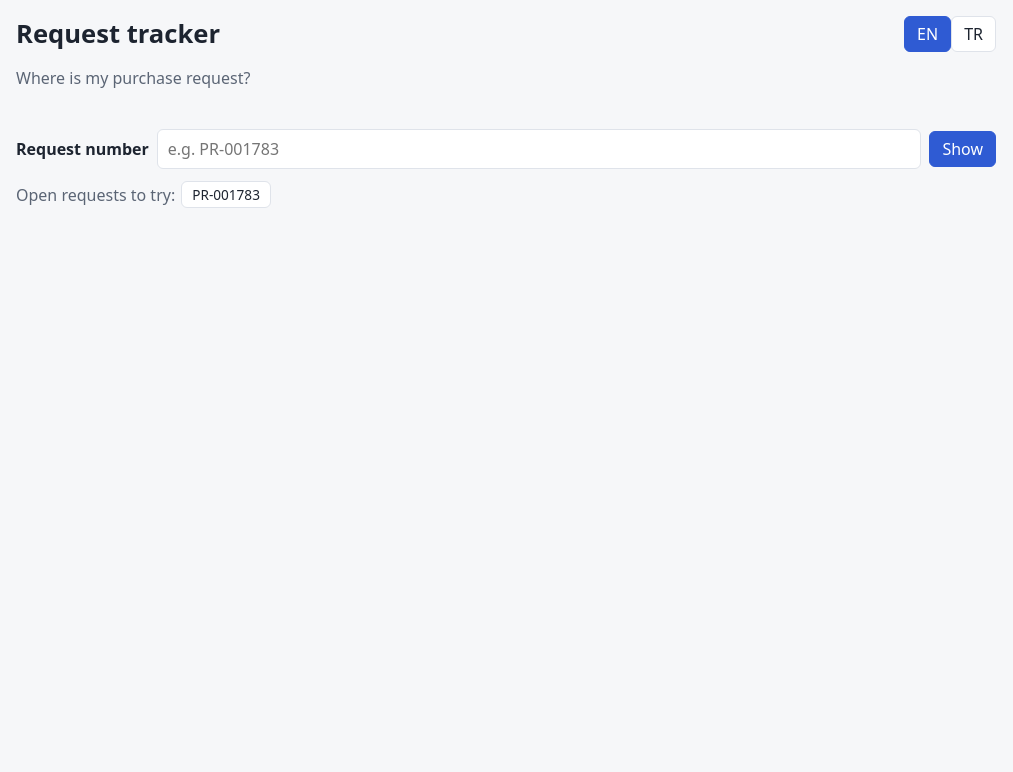
Scenario: RequestTracker › HidesComparison_WhenNull
In the field labelled "Request number": coordinates (539, 149) [157,129,921,169], type "PR-001783"
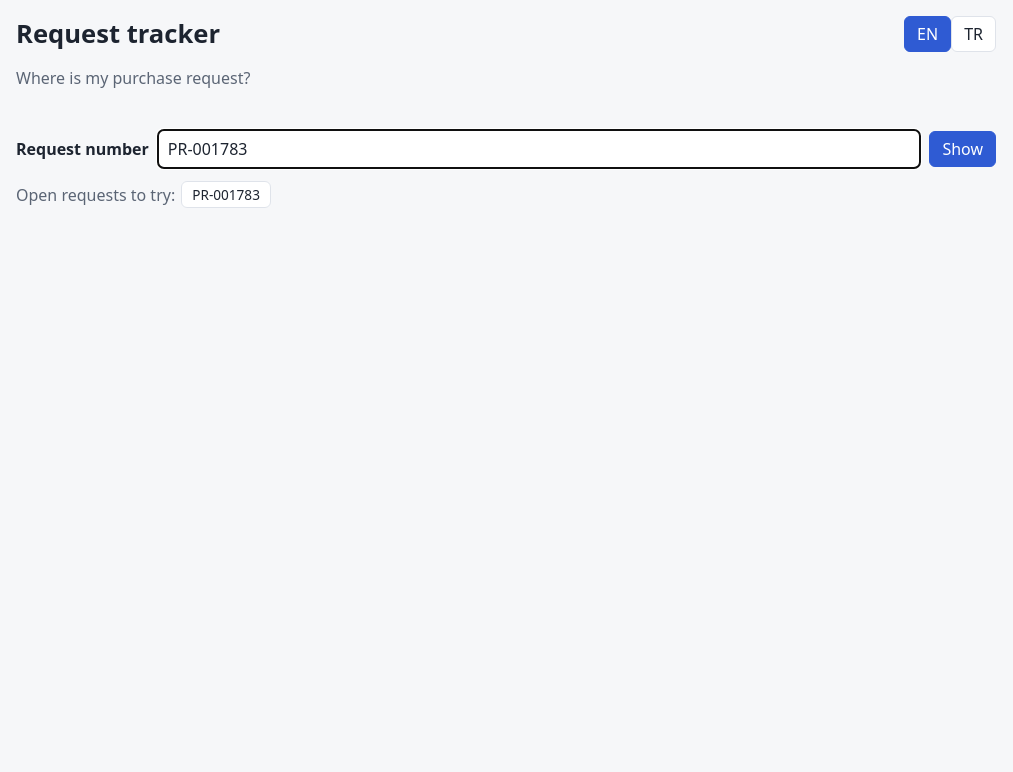
Click the button "Show": coordinates (963, 149) [929,131,996,167]
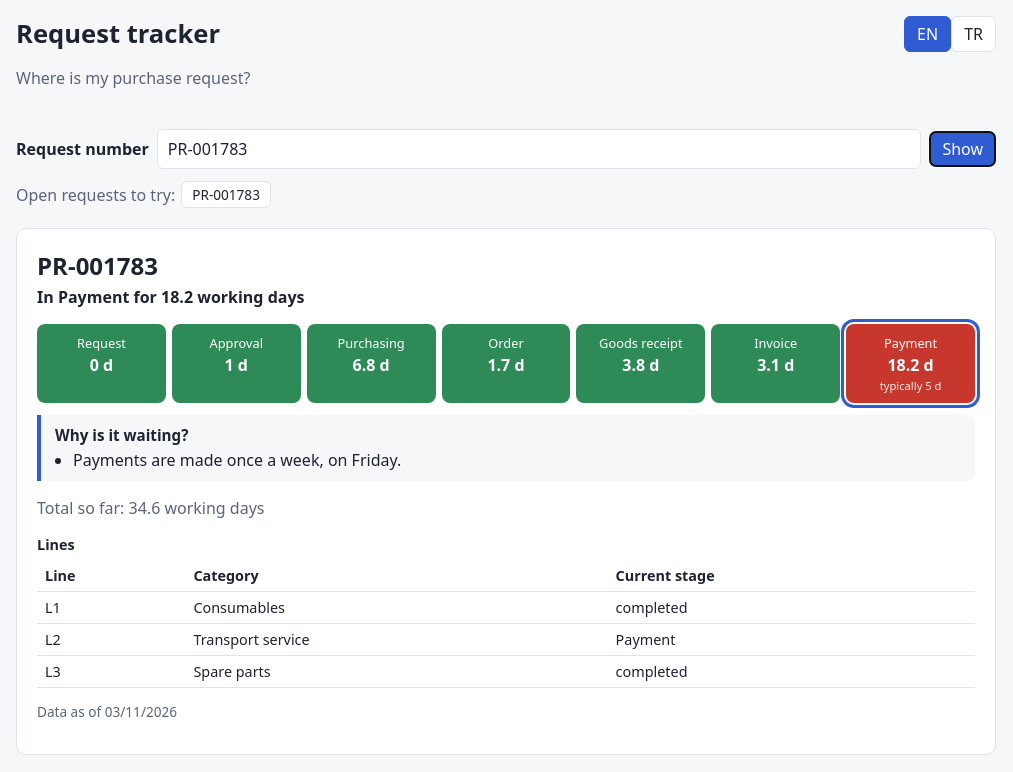
Now the heading "PR-001783" is shown, box [37,249,158,282]
